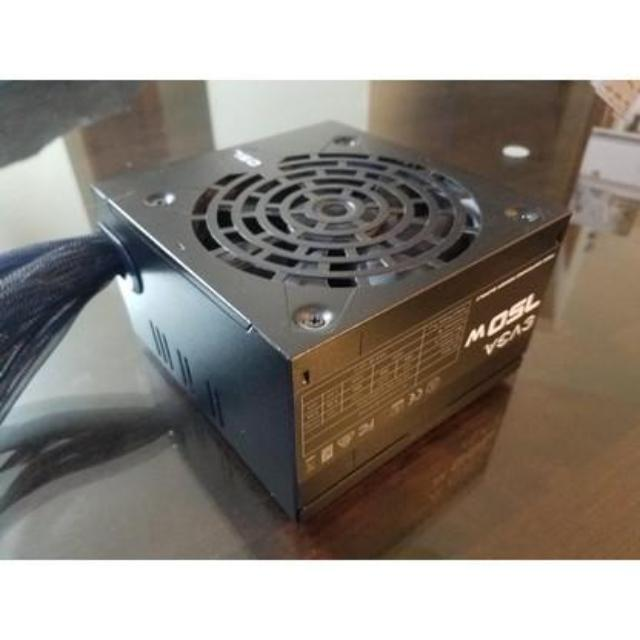PSU: (77, 104, 586, 526)
